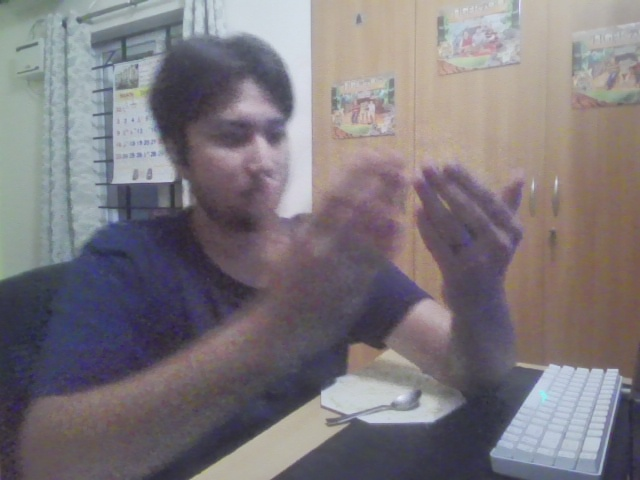thankyou: (255, 152, 526, 327)
